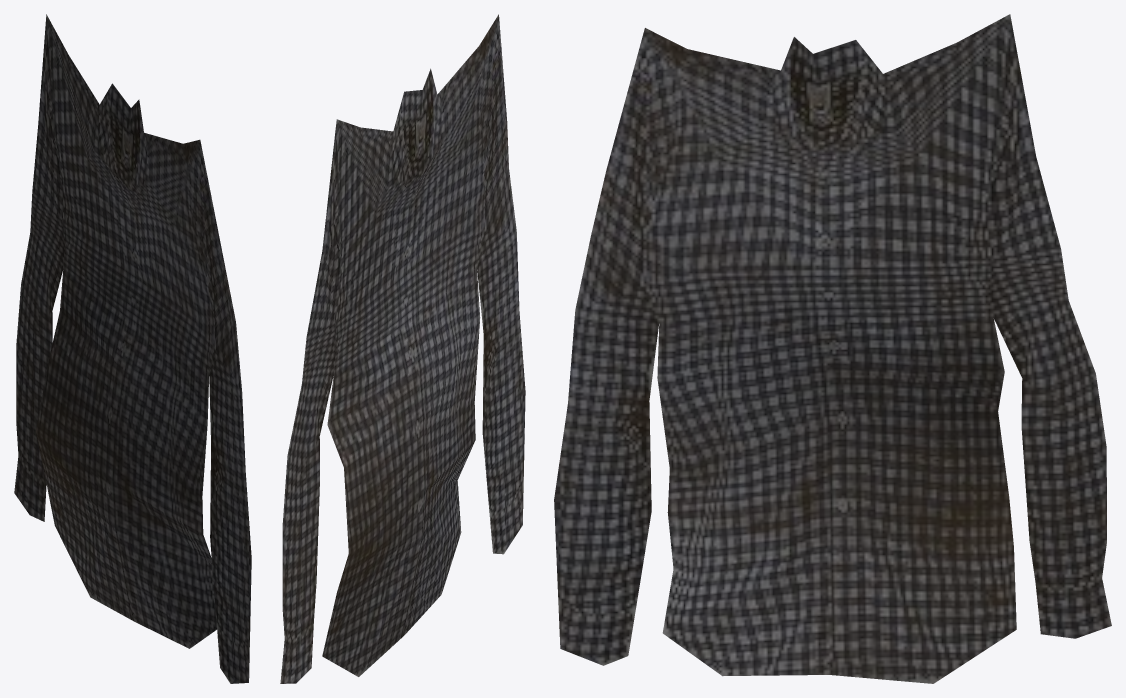
File: Shirt_03.FBX
3 renders of one model, left to right at view 1: azimuth 30°, elevation 25°; view 2: azimuth 150°, elevation 25°; view 3: azimuth 270°, elevation 25°, orthographic. The views are drawn at different scales.
Visible parts, largest first — view 1: Shirt_03; view 2: Shirt_03; view 3: Shirt_03.
Part boxes in pixels (x1=…): Shirt_03: x1=14, y1=14, x2=251, y2=683; Shirt_03: x1=280, y1=14, x2=525, y2=683; Shirt_03: x1=554, y1=14, x2=1111, y2=683.
Bounding box in the file's own units: 5.82 × 80.38 × 61.26.
